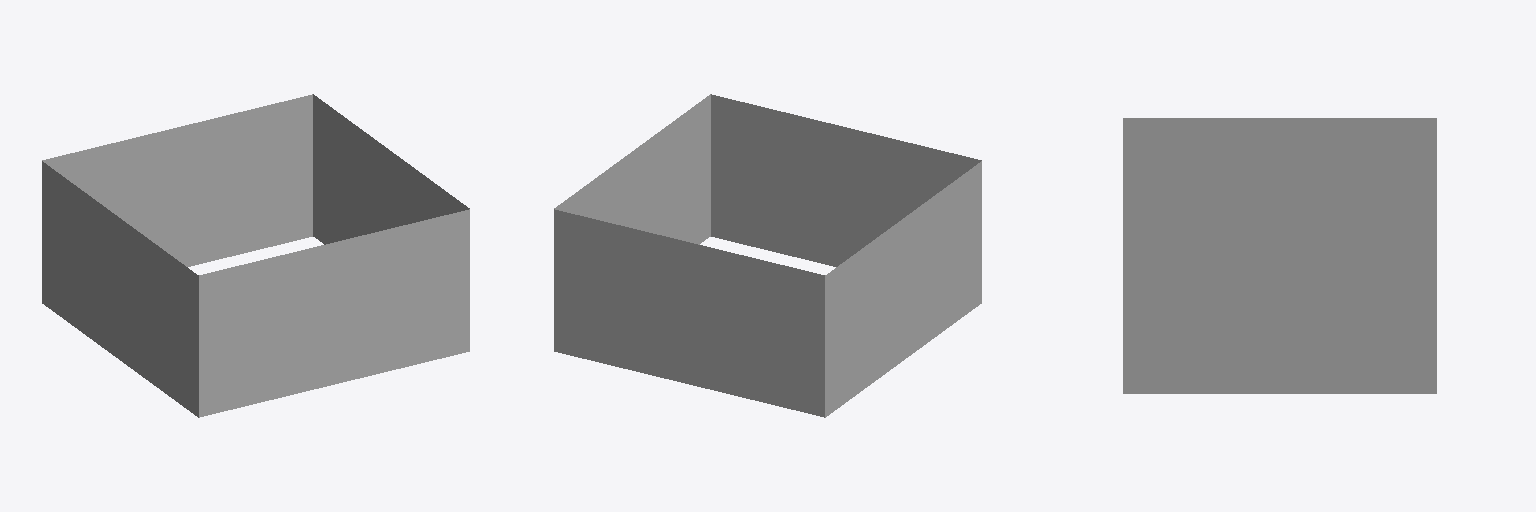
The model's file is Tower_Block_LargeBricks.obj.
The picture shows the model from 3 angles: view 1: azimuth 30°, elevation 25°; view 2: azimuth 150°, elevation 25°; view 3: azimuth 270°, elevation 25°; orthographic projection.
Visible parts, largest first — view 1: Tower_Block_LargeBricks.001; view 2: Tower_Block_LargeBricks.001; view 3: Tower_Block_LargeBricks.001.
Part boxes in pixels (x1,y1,x2,y2): Tower_Block_LargeBricks.001: (42, 94, 469, 417); Tower_Block_LargeBricks.001: (554, 94, 981, 417); Tower_Block_LargeBricks.001: (1123, 118, 1436, 393).
Size of the model in its own units: 16.52 by 8.26 by 16.52.